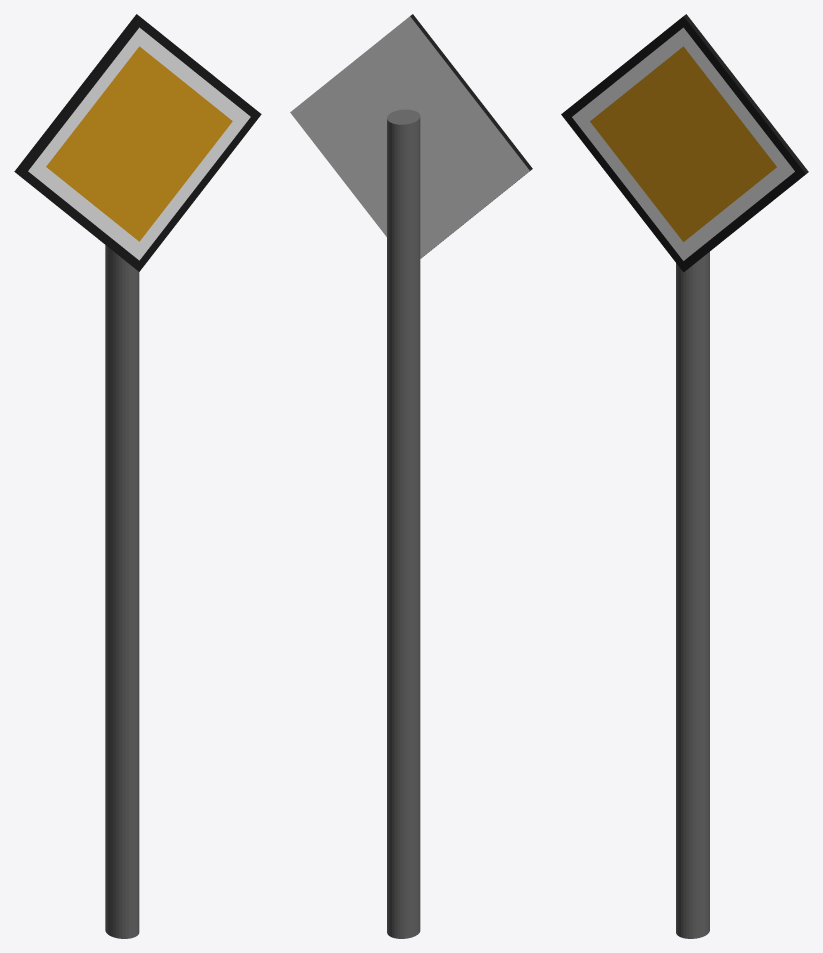
File: Huvudled.fbx
3 renders of one model, left to right at view 1: azimuth 30°, elevation 25°; view 2: azimuth 150°, elevation 25°; view 3: azimuth 330°, elevation 25°, orthographic. The views are drawn at different scales.
Visible parts, largest first — view 1: Väjningspliktsskylt, Cylinder.001; view 2: Cylinder.001, Väjningspliktsskylt; view 3: Väjningspliktsskylt, Cylinder.001.
Part boxes in pixels (box(x1,y1,x2,y2)): Väjningspliktsskylt: box(14, 14, 261, 271); Cylinder.001: box(105, 245, 139, 938); Cylinder.001: box(387, 109, 420, 938); Väjningspliktsskylt: box(290, 14, 532, 258); Väjningspliktsskylt: box(561, 14, 808, 272); Cylinder.001: box(676, 252, 709, 938).
Bounding box in the file's own units: 1.55 × 5.6 × 0.2493.
